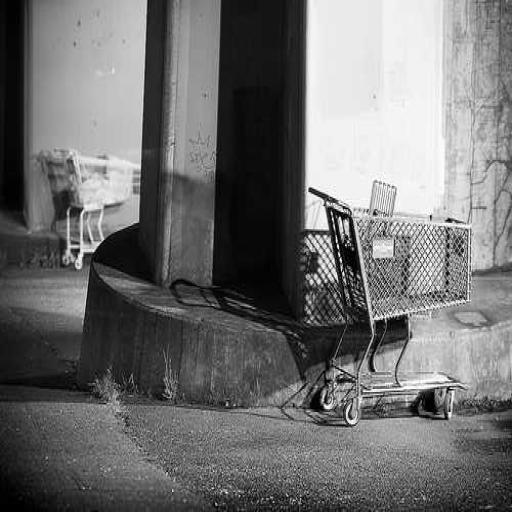shopping_cart: (308, 178, 476, 425), (54, 146, 135, 271)
